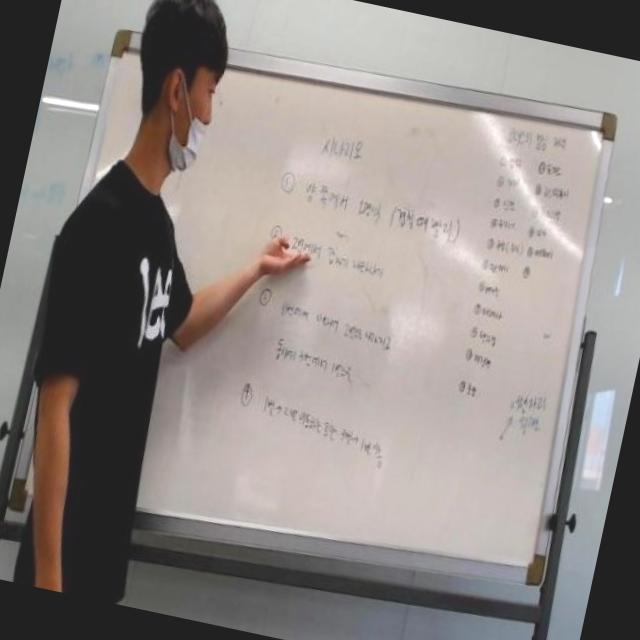Instructor: (0, 0, 266, 575)
White-board: (21, 35, 612, 577)
